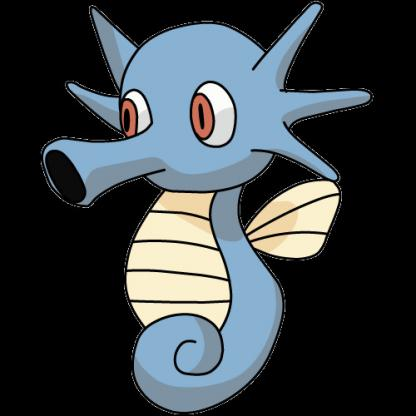Horsea: (52, 1, 380, 416)
